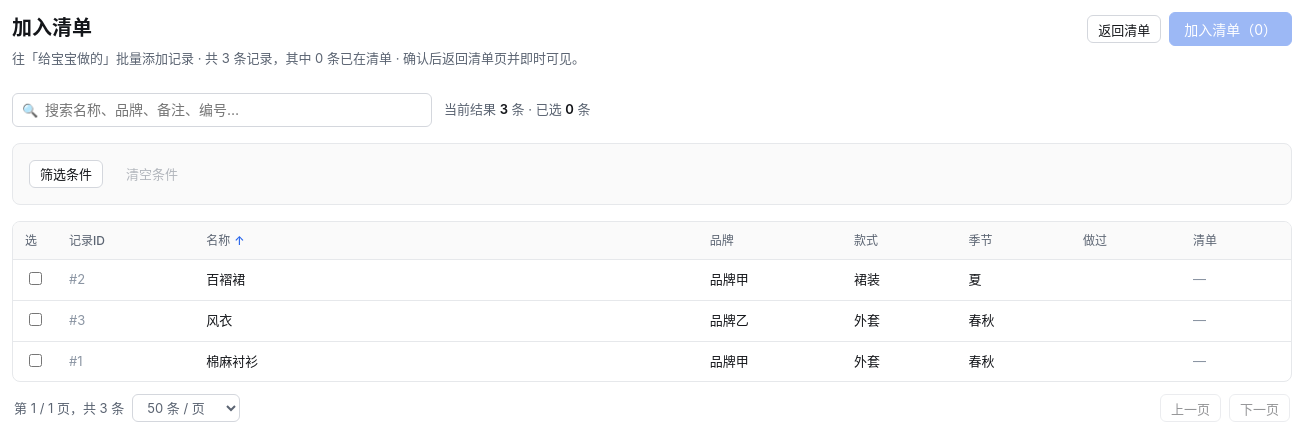
Scenario: v6.9 · 多选与批量加入 › 再点一次取消勾选；未选任何记录时确认按钮禁用
Check: the button with test id "iw-plan-add-confirm" is disabled, box [1169, 12, 1292, 46]
Click the checkbox with test id "iw-plan-add-check-2": (36, 278) [29, 272, 42, 285]
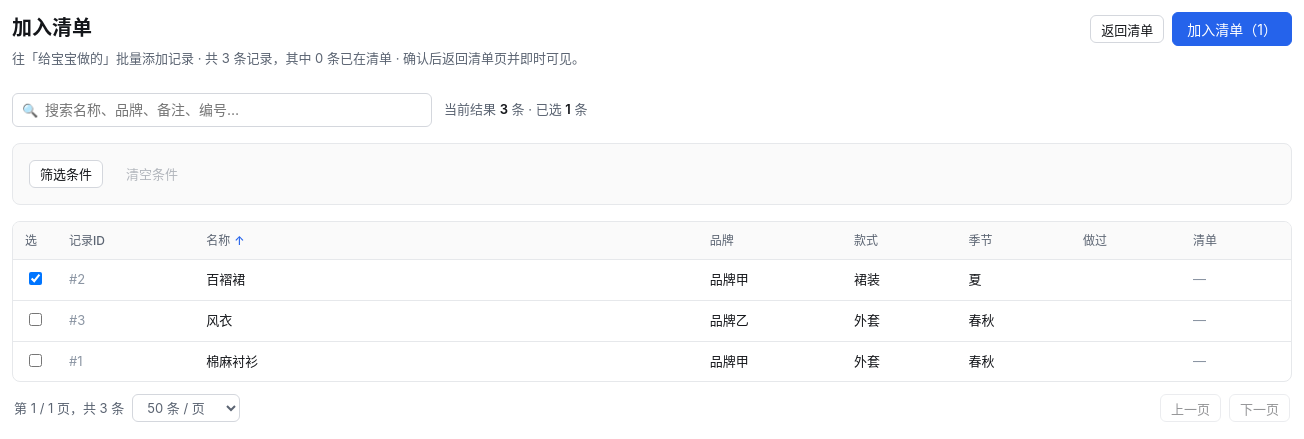
Check: the button with test id "iw-plan-add-confirm" is enabled, box [1172, 12, 1292, 46]
Click the checkbox with test id "iw-plan-add-check-2": (36, 278) [29, 272, 42, 285]
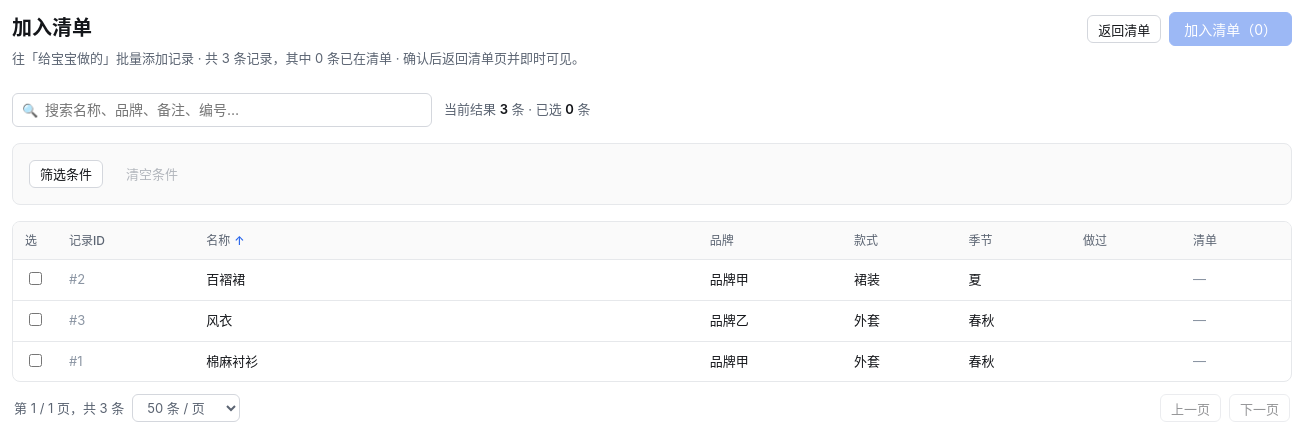
Check: the button with test id "iw-plan-add-confirm" is disabled, box [1169, 12, 1292, 46]
Check: the button with test id "iw-plan-add-confirm" reads "加入清单（0）", box [1169, 12, 1292, 46]
